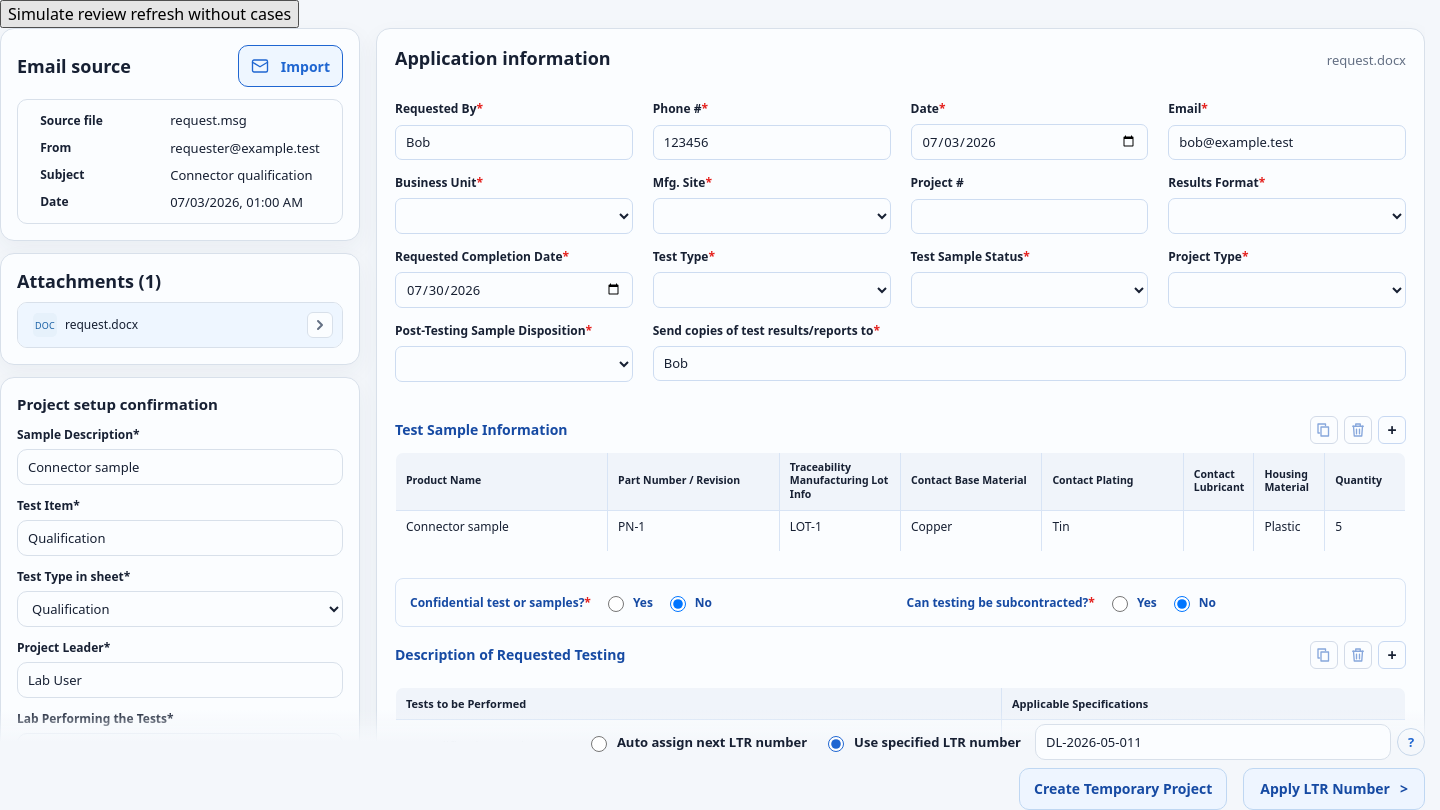
Test case: IntakeInboxPage local LTR duplicate cancel recovery › blocks completion when the specified LTR is missing from the workbook
This screenshot has width=1440, height=810.
Click the button "Apply LTR Number >" at (1334, 789), box [1243, 768, 1425, 809]
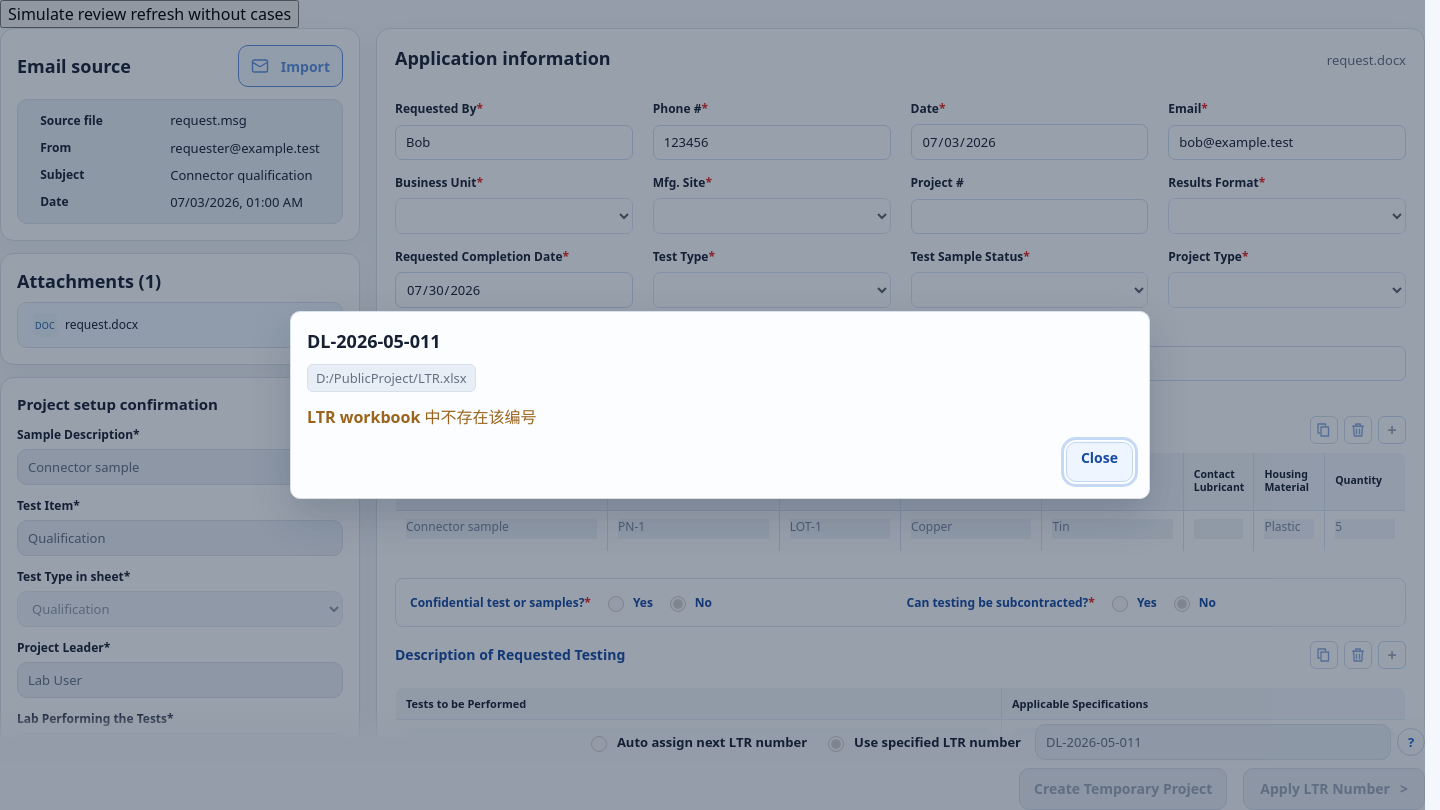
Expected: the element "DL-2026-05-011" is shown
Expected: the text "LTR workbook 中不存在该编号" is shown, [307, 406, 536, 428]
Click the button "Close" at (1099, 462), box [1066, 442, 1133, 482]
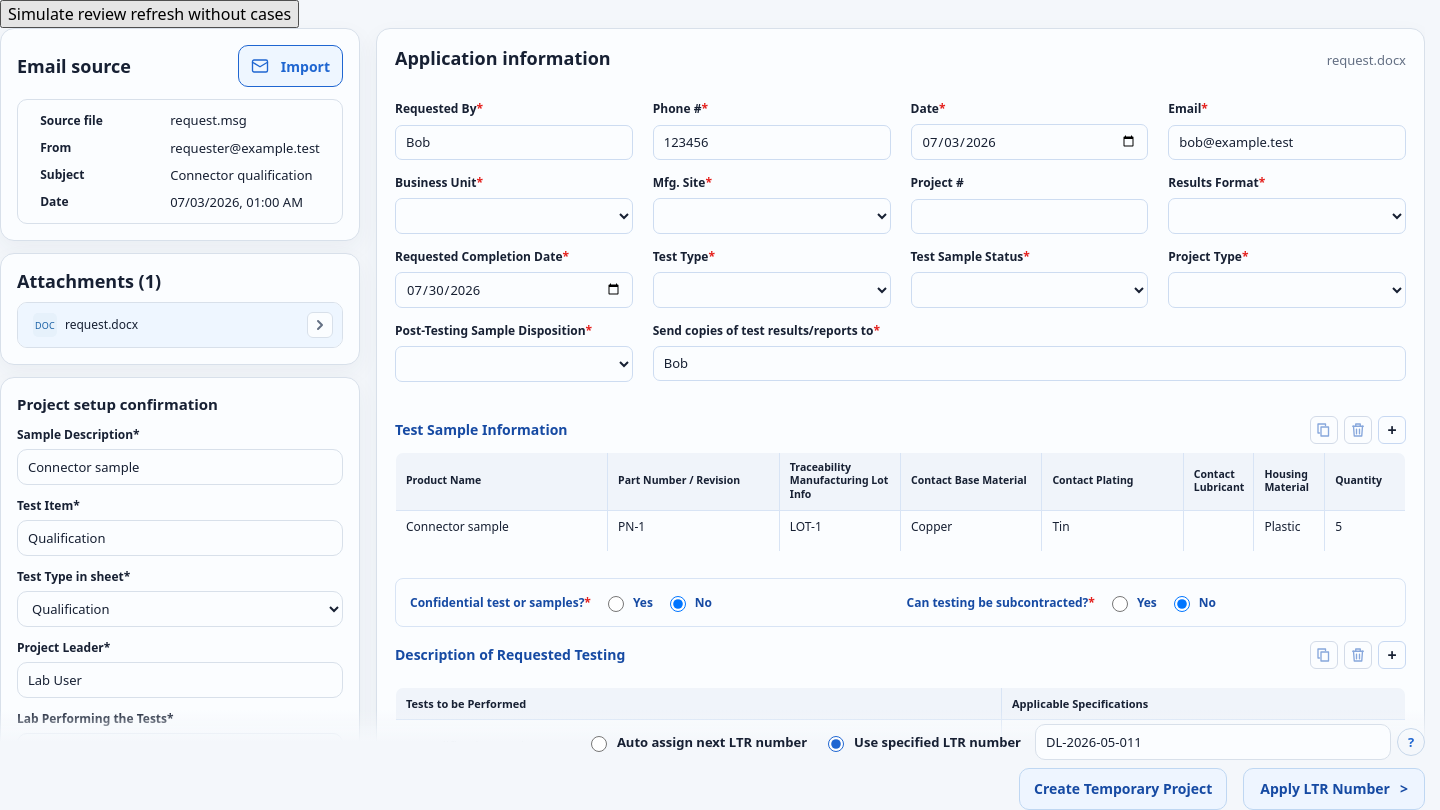
Expected: the text "LTR workbook 中不存在该编号" is gone
Expected: the button "Apply LTR Number >" is enabled, [1243, 768, 1425, 809]
